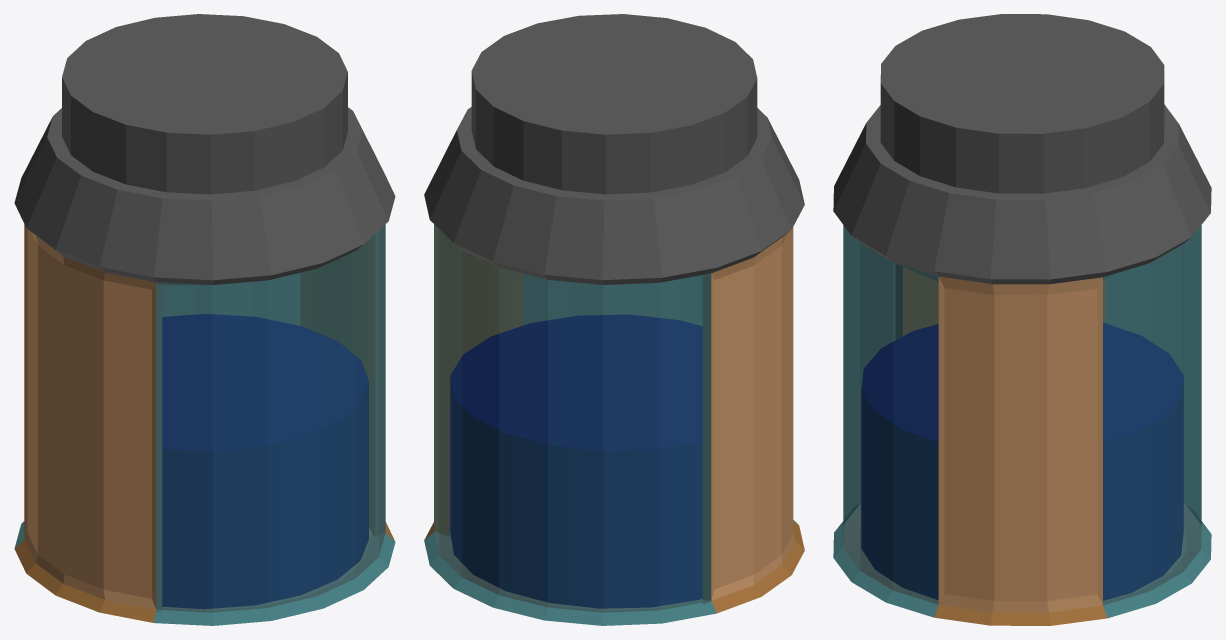
File: Slime Jar.fbx
The picture shows the model from 3 angles, left to right: view 1: azimuth 30°, elevation 25°; view 2: azimuth 150°, elevation 25°; view 3: azimuth 270°, elevation 25°; orthographic projection.
Visible parts, largest first — view 1: pCylinder4; view 2: pCylinder4; view 3: pCylinder4.
Boxes of the visible parts, x1,y1,x2,y2 form: pCylinder4: (14, 14, 395, 625); pCylinder4: (424, 14, 804, 625); pCylinder4: (833, 14, 1211, 625).
Size of the model in its own units: 18.02 by 24.83 by 18.02.
